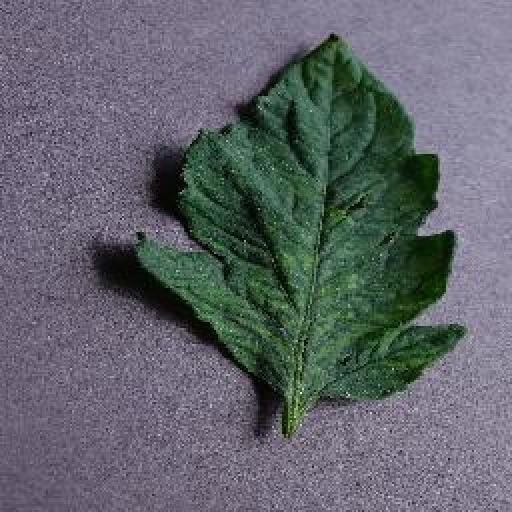Mosaic Virus: (125, 26, 471, 406)
